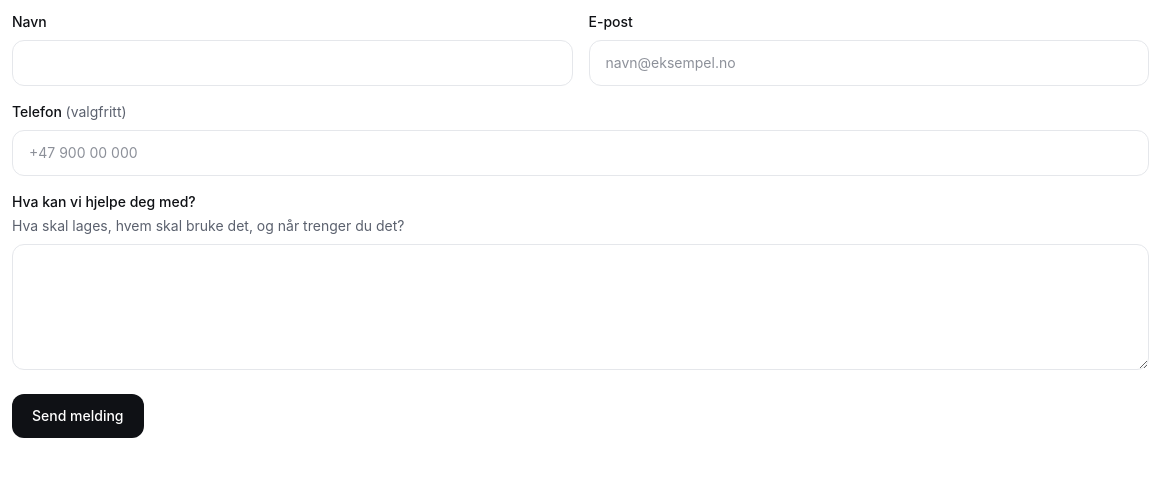
it: ContactForm › shows the server error with a mail fallback
The image size is (1164, 491).
Step 1. Type "Kari" into the field labelled "Navn" → (292, 63), box [12,40,572,86]
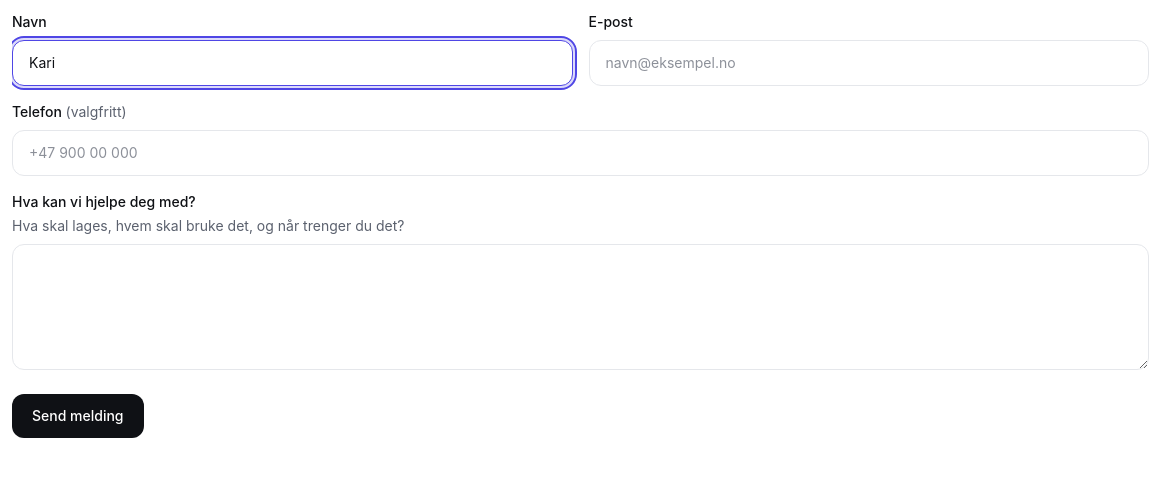
Step 2. Type "kari@example.no" into the field labelled "E-post" → (869, 63), box [588,40,1149,86]
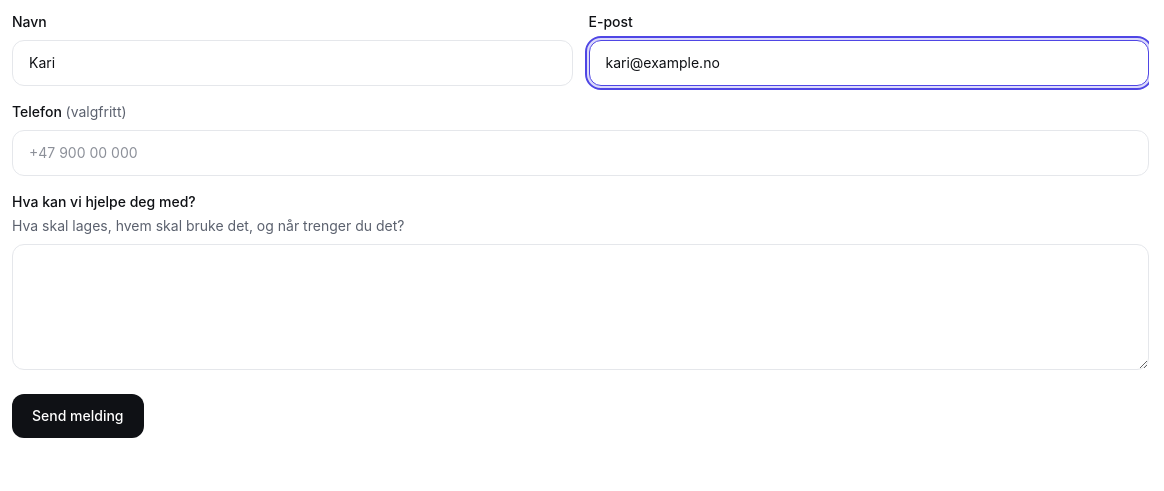
Step 3. Type "En nettside." into the text box labelled "Hva kan vi hjelpe deg med" → (580, 307), box [12,244,1149,370]
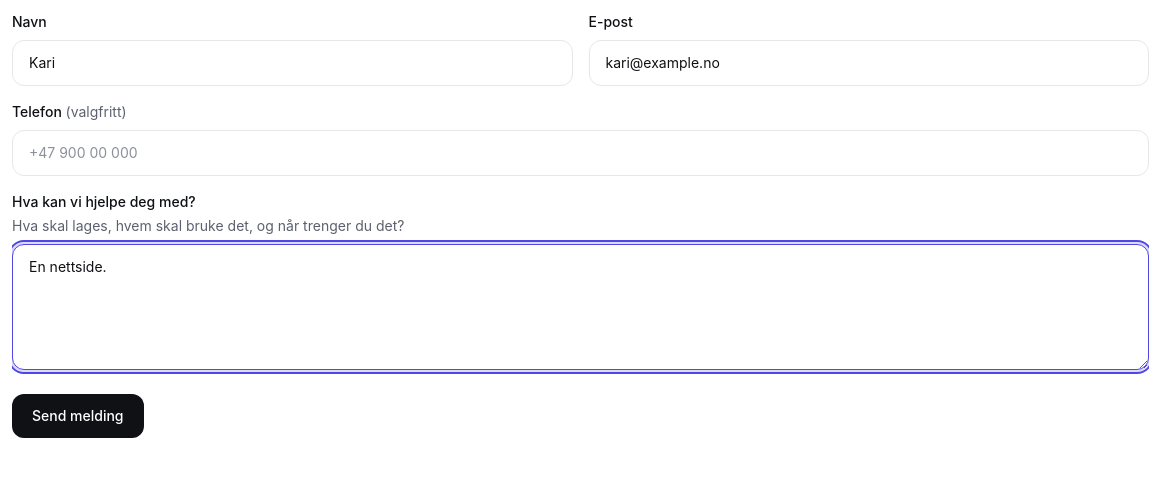
Step 4. Click the button "Send melding" → (78, 416), box [12,394,144,438]
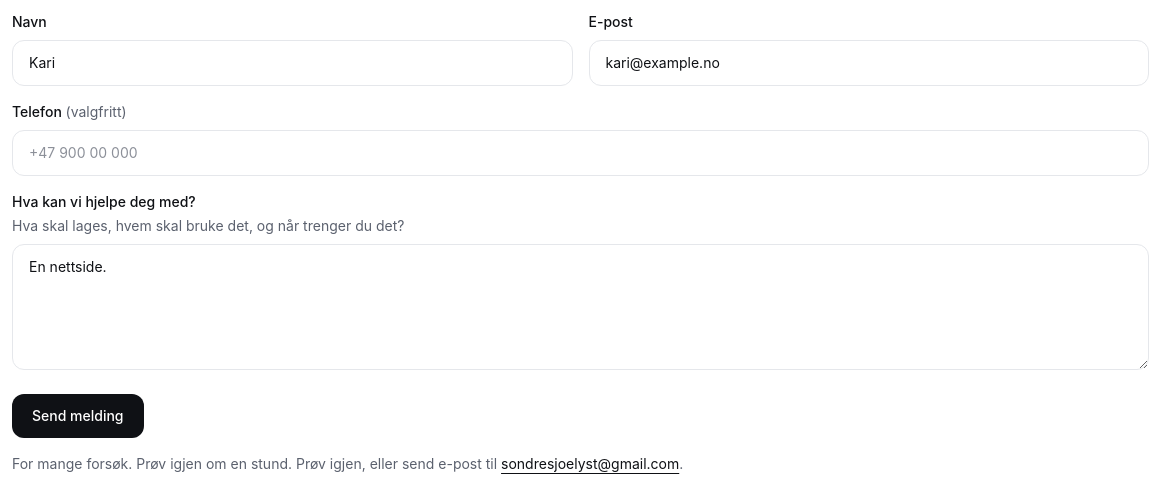
Check: the message shows "For mange forsøk. Prøv igjen om en stund.", box [12,455,292,472]
